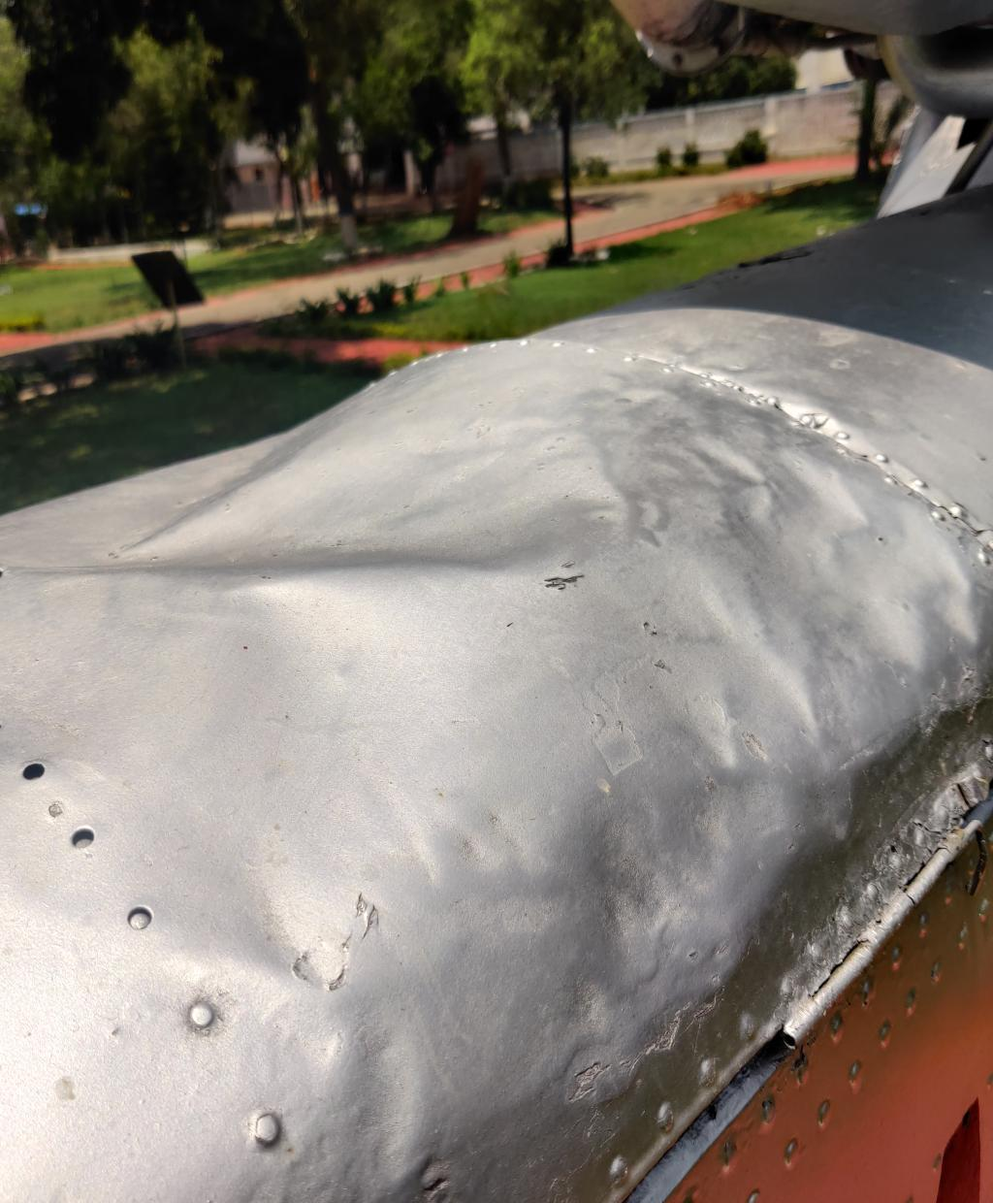dent: (26, 325, 639, 658), (692, 405, 993, 790), (543, 678, 804, 1014), (301, 978, 453, 1203), (176, 842, 368, 1011)
